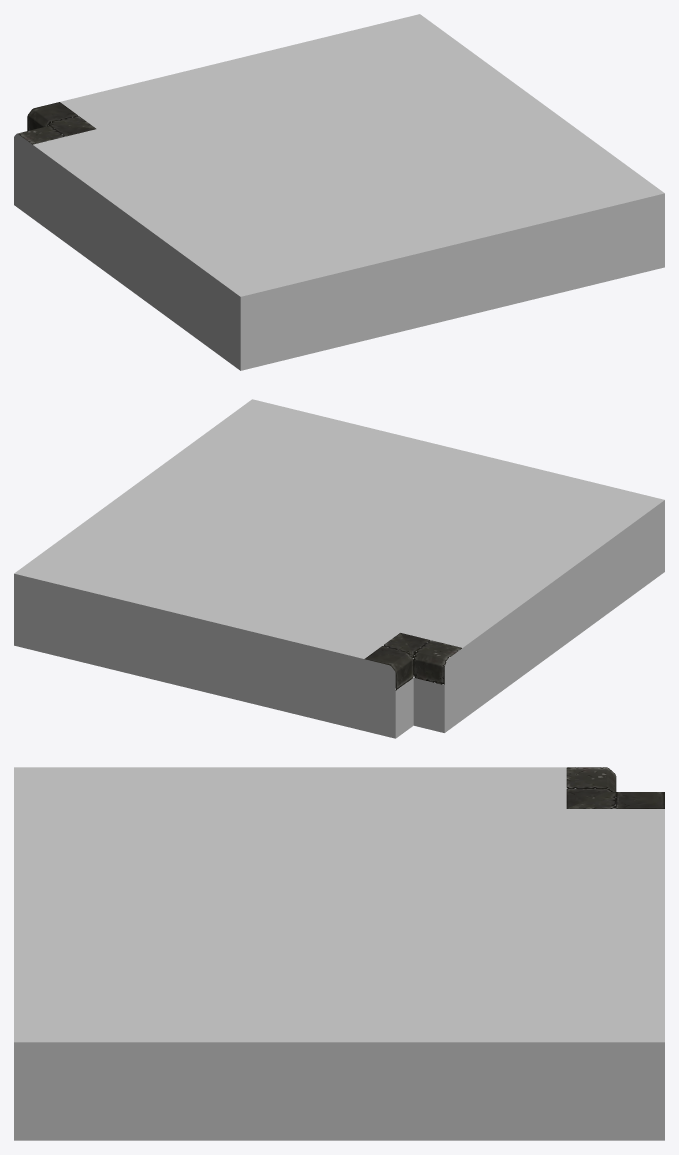
3 renders of one model, top to bottom at view 1: azimuth 30°, elevation 25°; view 2: azimuth 150°, elevation 25°; view 3: azimuth 270°, elevation 25°, orthographic. The views are drawn at different scales.
Visible parts, largest first — view 1: SM_Downdun_Vaulted_Floor_12x12_02_LOD0; view 2: SM_Downdun_Vaulted_Floor_12x12_02_LOD0; view 3: SM_Downdun_Vaulted_Floor_12x12_02_LOD0.
Part boxes in pixels (x1,y1,x2,y2): SM_Downdun_Vaulted_Floor_12x12_02_LOD0: [14, 14, 664, 370]; SM_Downdun_Vaulted_Floor_12x12_02_LOD0: [14, 399, 664, 738]; SM_Downdun_Vaulted_Floor_12x12_02_LOD0: [14, 767, 664, 1140].
Size of the model in its own units: 12 by 2 by 12.
